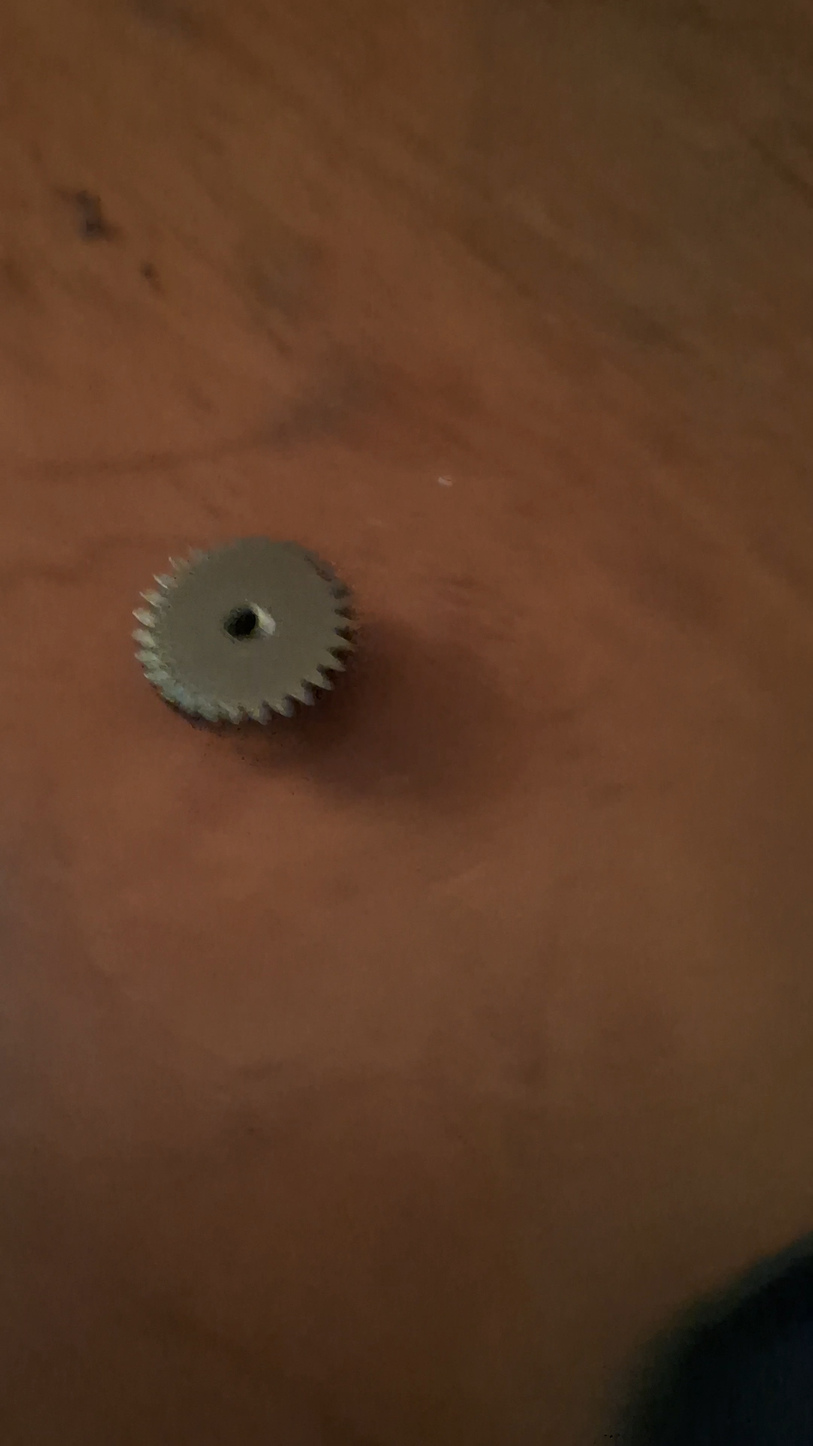spur gear: (133, 538, 352, 723)
